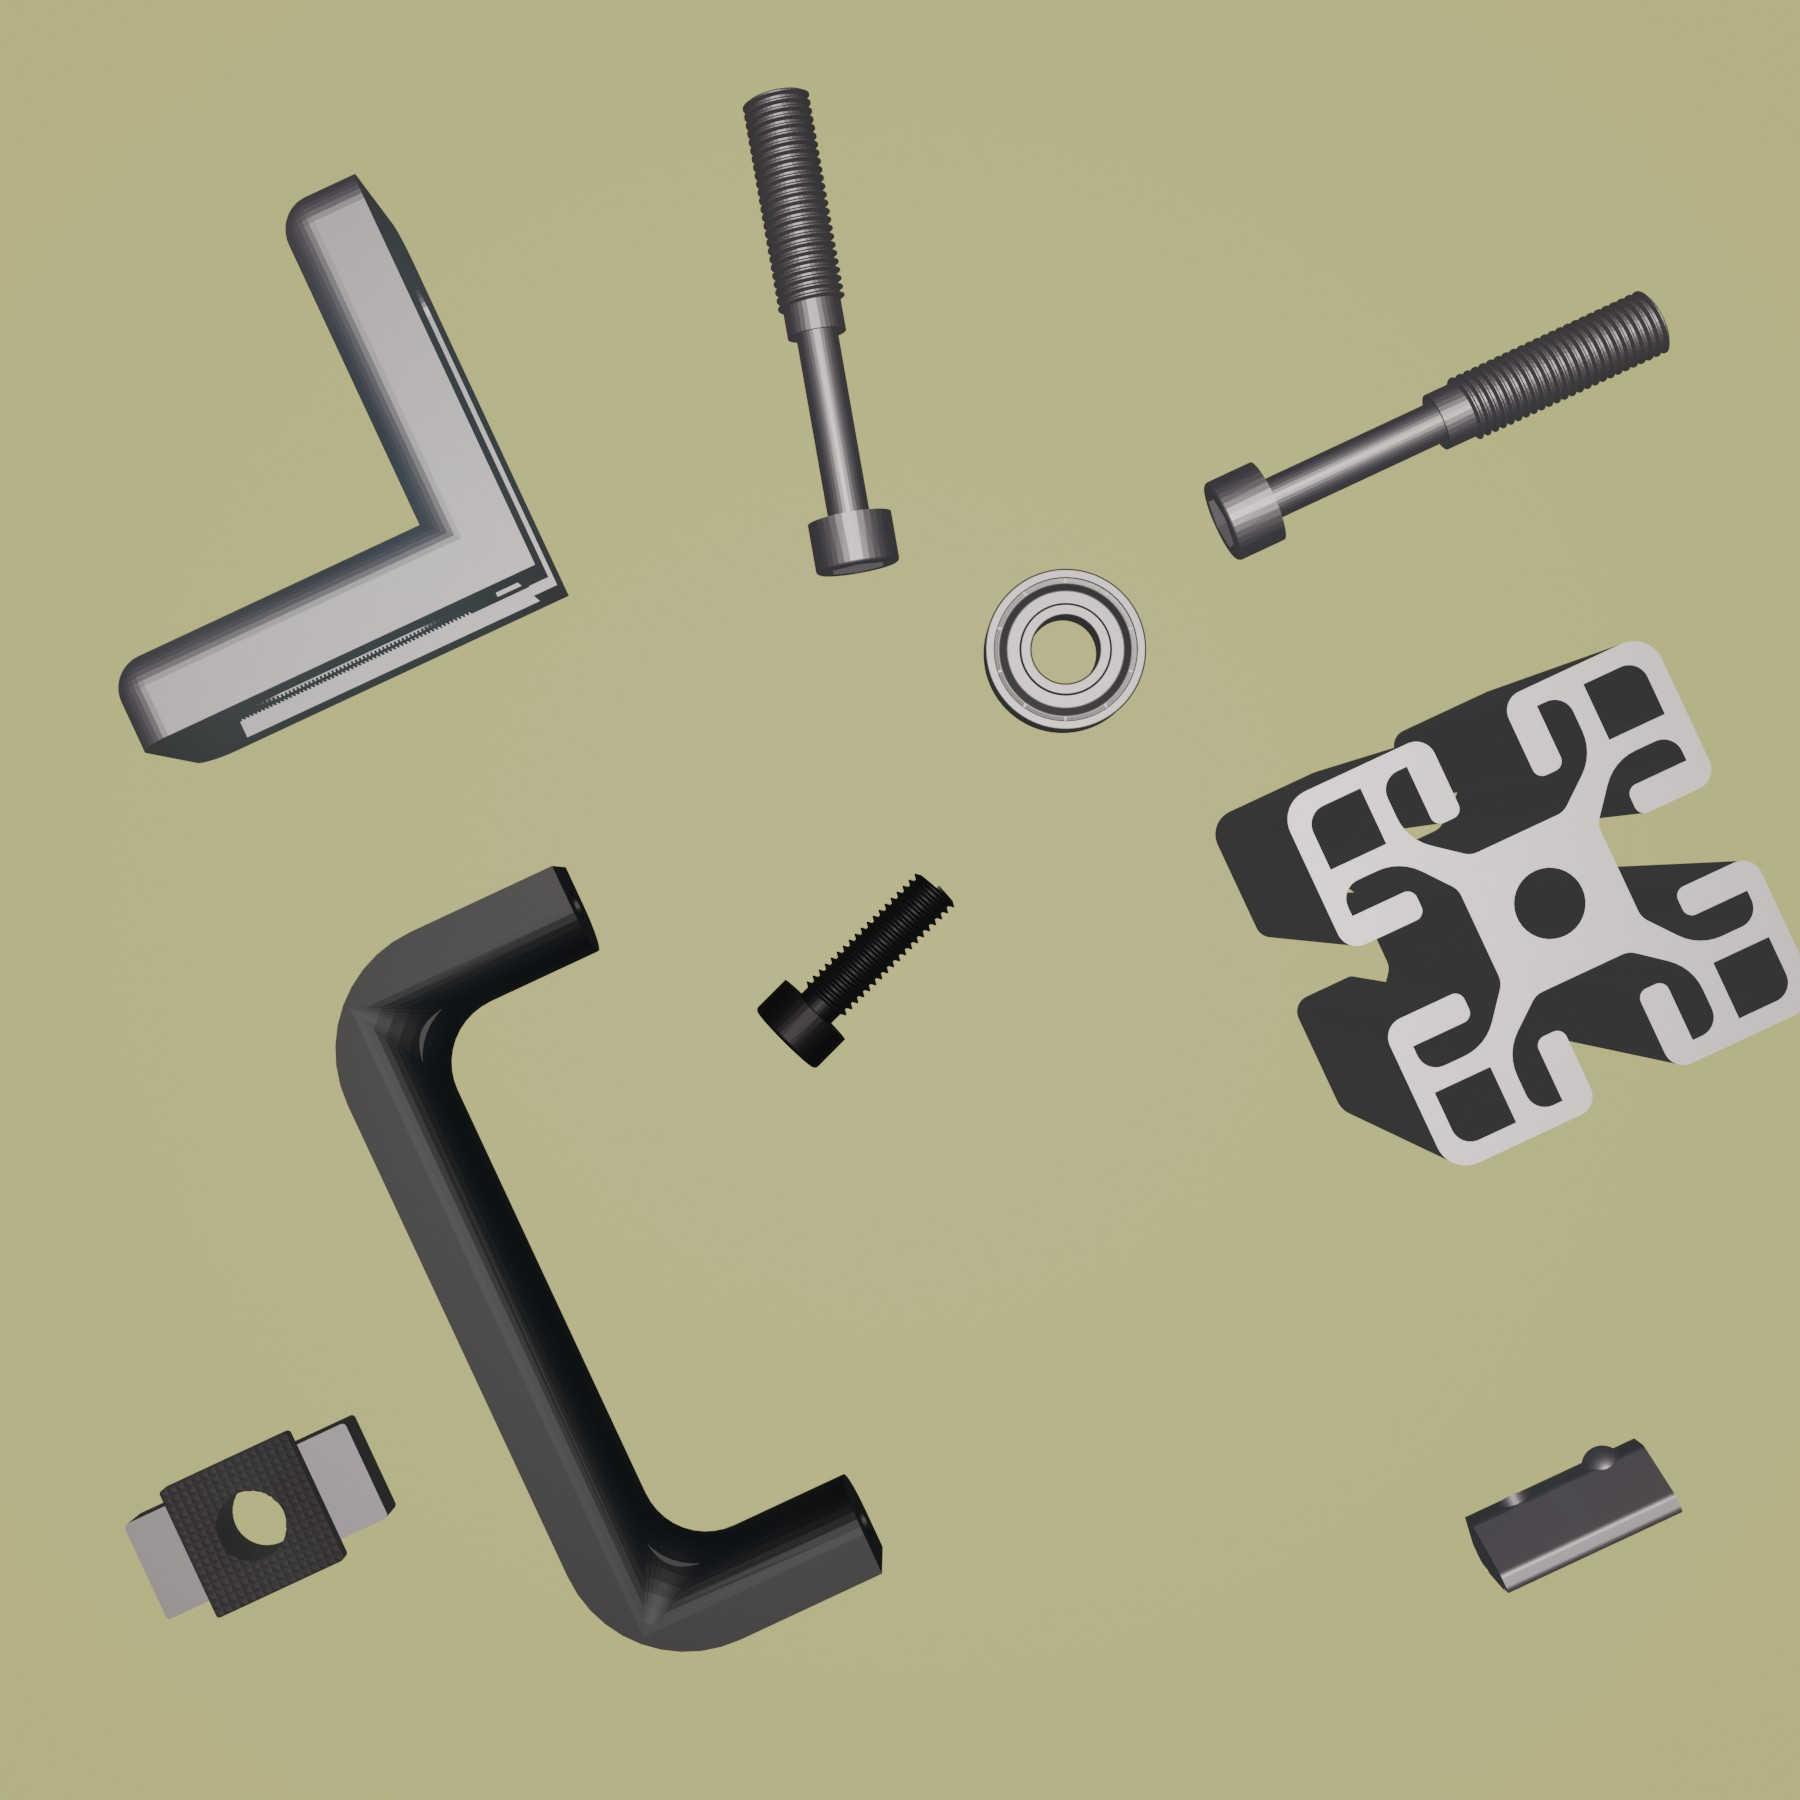Aluminium Extension: (1213, 638, 1800, 1172)
Ball Bearing: (982, 569, 1147, 737)
Multiwinkel: (115, 171, 570, 765)
Pull Handle: (331, 860, 885, 1655)
Shoulder Socket Head Cap Screw: (1202, 284, 1675, 565), (740, 81, 902, 579)
Socket Head Cap Screw: (755, 869, 954, 1070)
T Nut Square: (120, 1413, 401, 1624)
T Spring Nut: (1467, 1431, 1685, 1597)
